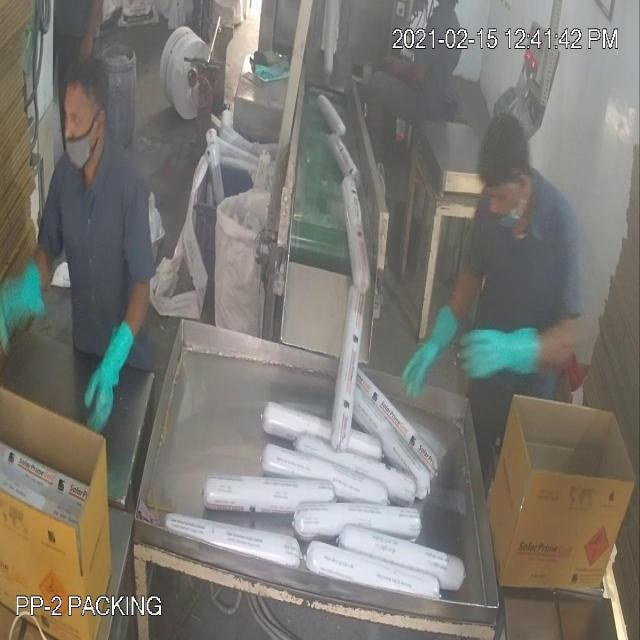gloves: (77, 304, 138, 446), (396, 294, 466, 412), (462, 319, 558, 398)
no-gloves: (373, 40, 429, 100)
